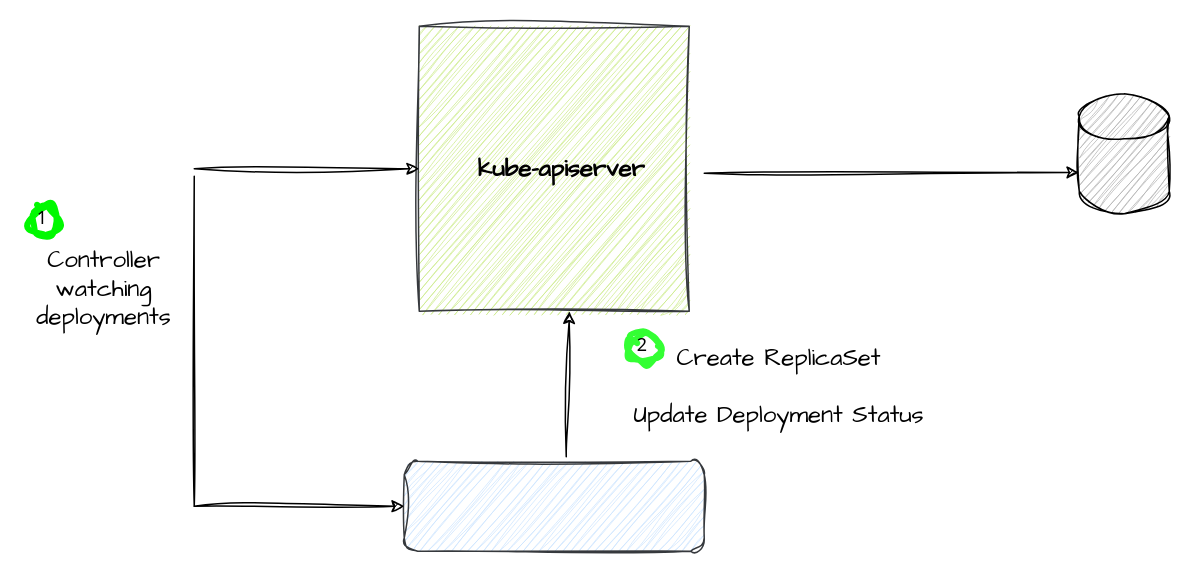
Image size: 1196x578. Some labels were removed from this diagram. The shapes that lost their labels are listed below. From the top down, each one's centre as x and y in pixels, then its label:
At [1123,153]: "etcd".
At [553,505]: "deployment controller".
